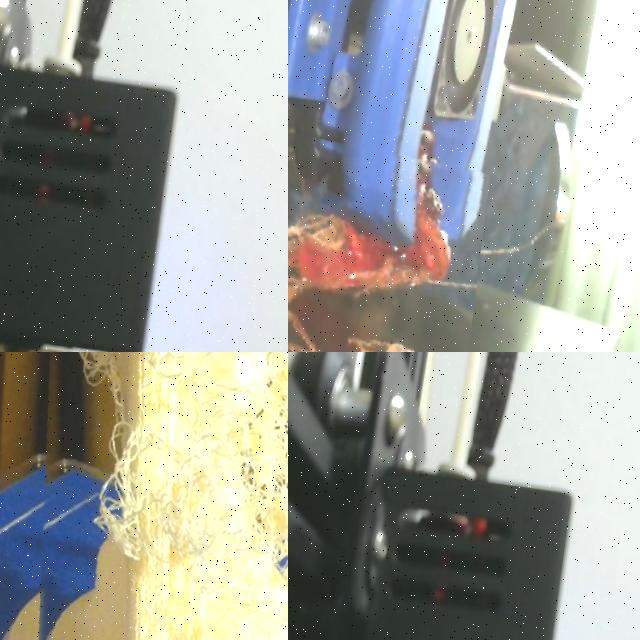spaghetti: (37, 352, 288, 640), (288, 154, 450, 352)
